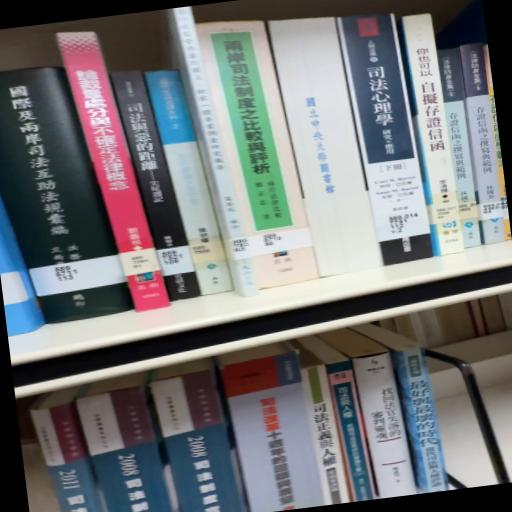backward: (268, 12, 382, 279)
book: (58, 22, 175, 319), (1, 57, 129, 328), (195, 11, 309, 240), (334, 10, 434, 270), (111, 68, 198, 308), (151, 63, 236, 301), (402, 12, 467, 262), (351, 351, 418, 502), (392, 345, 450, 496), (330, 361, 380, 504)
